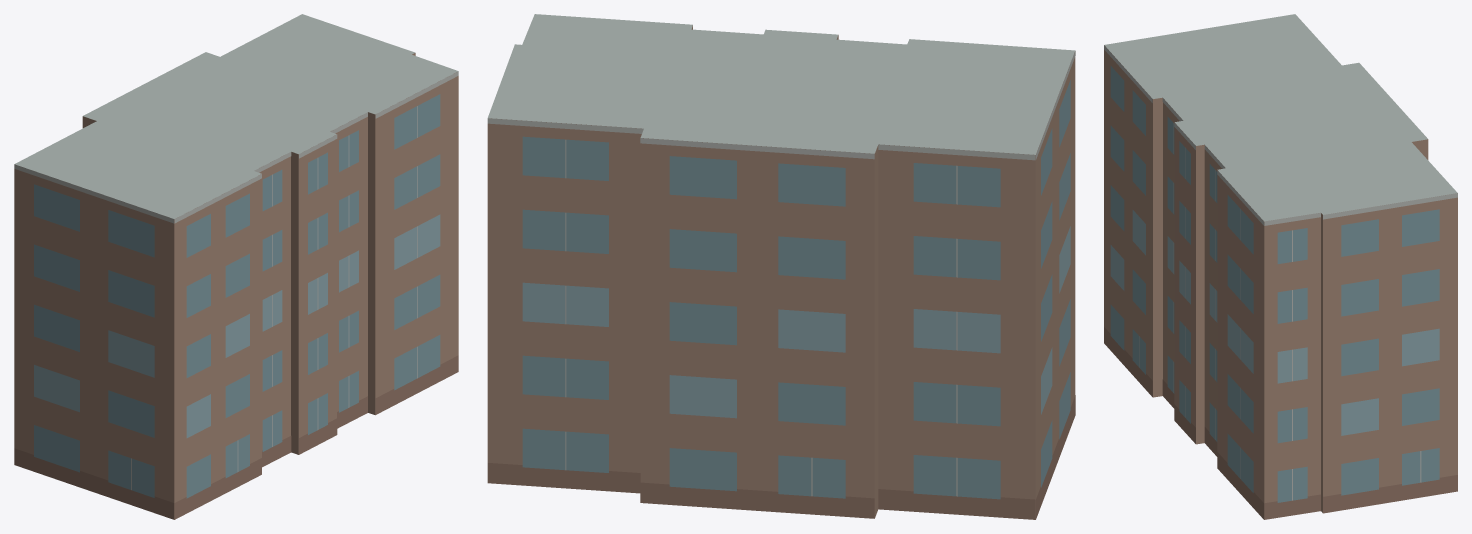
File: survey-upis-32951558.glb
3 renders of one model, left to right at view 1: azimuth 30°, elevation 25°; view 2: azimuth 150°, elevation 25°; view 3: azimuth 270°, elevation 25°, orthographic. The views are drawn at different scales.
Visible parts, largest first — view 1: survey-upis-32951558.tmp; view 2: survey-upis-32951558.tmp; view 3: survey-upis-32951558.tmp.
Part boxes in pixels (x1,y1,x2,y2): survey-upis-32951558.tmp: (14,14,458,519); survey-upis-32951558.tmp: (487,14,1075,519); survey-upis-32951558.tmp: (1104,14,1457,519).
Bounding box in the file's own units: 24.17 × 16.2 × 17.42.
